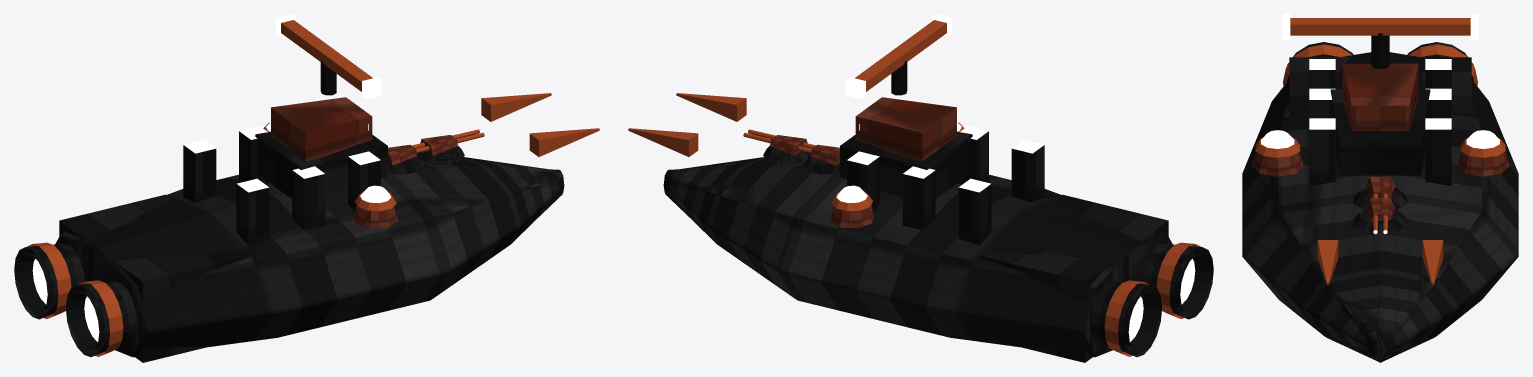
The model's file is command_ship.glb.
3 renders of one model, left to right at view 1: azimuth 30°, elevation 25°; view 2: azimuth 150°, elevation 25°; view 3: azimuth 270°, elevation 25°, orthographic. The views are drawn at different scales.
Visible parts, largest first — view 1: hull_body, engine_block, sensor_tower, weapon_turrets, shield_domes; view 2: hull_body, engine_block, sensor_tower, weapon_turrets, shield_domes; view 3: hull_body, sensor_tower, engine_block, shield_domes, weapon_turrets.
Boxes of the visible parts, <box> form: hull_body: <box>55,93,599,357</box>; engine_block: <box>14,194,248,362</box>; sensor_tower: <box>255,14,387,198</box>; weapon_turrets: <box>388,129,484,174</box>; shield_domes: <box>263,122,397,228</box>; hull_body: <box>628,93,1172,357</box>; engine_block: <box>979,194,1213,362</box>; sensor_tower: <box>840,14,972,198</box>; weapon_turrets: <box>743,129,839,174</box>; shield_domes: <box>830,122,964,228</box>; hull_body: <box>1242,52,1518,362</box>; sensor_tower: <box>1282,14,1478,175</box>; engine_block: <box>1283,42,1477,115</box>; shield_domes: <box>1252,130,1508,176</box>; weapon_turrets: <box>1353,176,1407,233</box>.
Bounding box in the file's own units: 56 × 25.48 × 23.72.
Materials: 1 (1 with a texture image).
